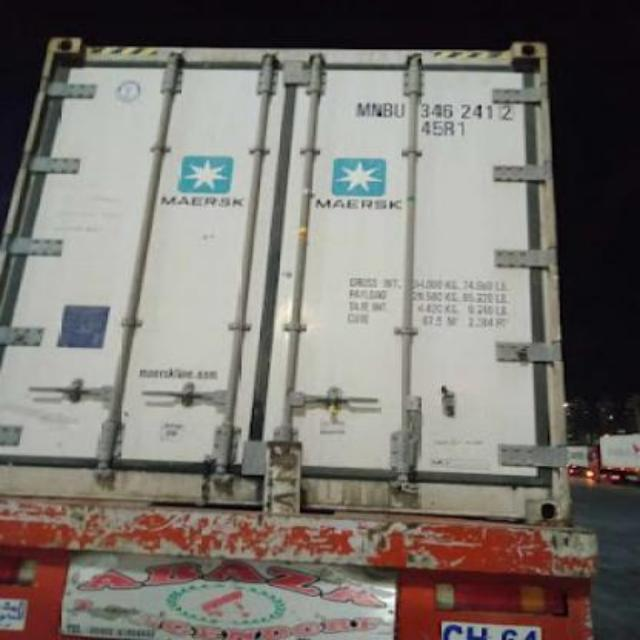1: (482, 102, 496, 118)
2: (498, 102, 518, 120), (460, 102, 472, 116)
3: (418, 100, 432, 118)
4: (431, 102, 444, 118), (472, 102, 484, 118)
6: (442, 102, 456, 116)
B: (382, 102, 396, 116)
M: (354, 100, 372, 118)
N: (370, 100, 382, 122)
U: (396, 100, 406, 122)
